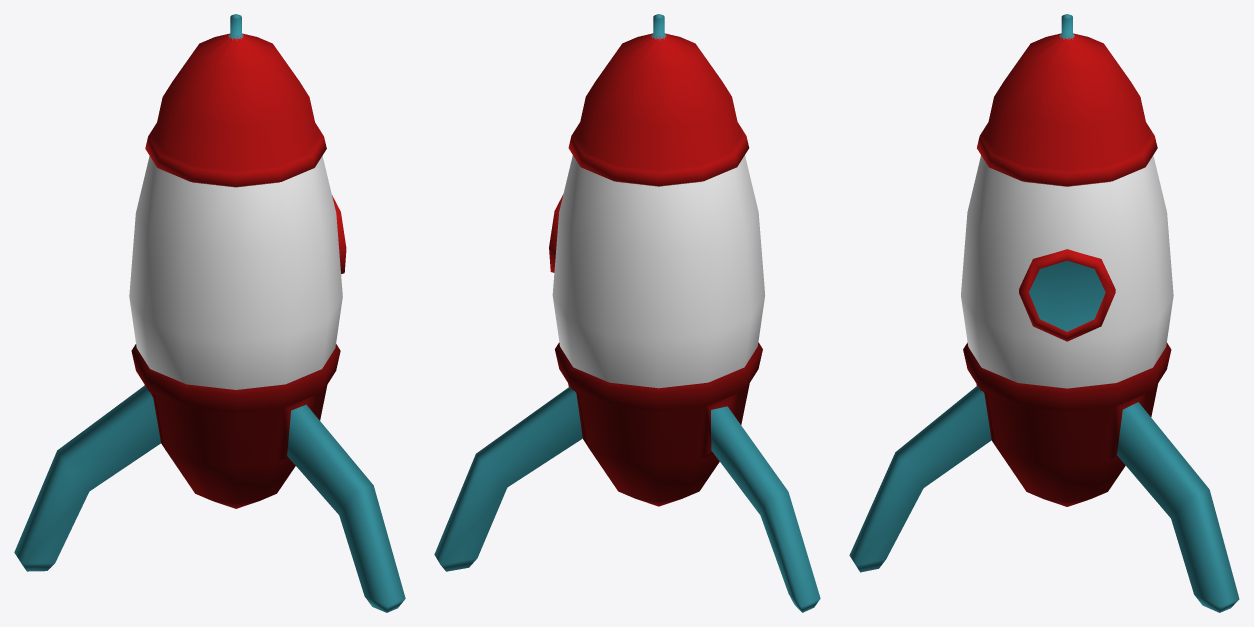
The model's file is rocket.fbx.
3 renders of one model, left to right at view 1: azimuth 30°, elevation 25°; view 2: azimuth 150°, elevation 25°; view 3: azimuth 270°, elevation 25°, orthographic.
Visible parts, largest first — view 1: pPipe2; view 2: pPipe2; view 3: pPipe2.
Part boxes in pixels (x1=…): pPipe2: x1=14, y1=14, x2=405, y2=612; pPipe2: x1=434, y1=14, x2=820, y2=612; pPipe2: x1=849, y1=14, x2=1239, y2=612.
Bounding box in the file's own units: 4.12 × 6.23 × 4.15.
